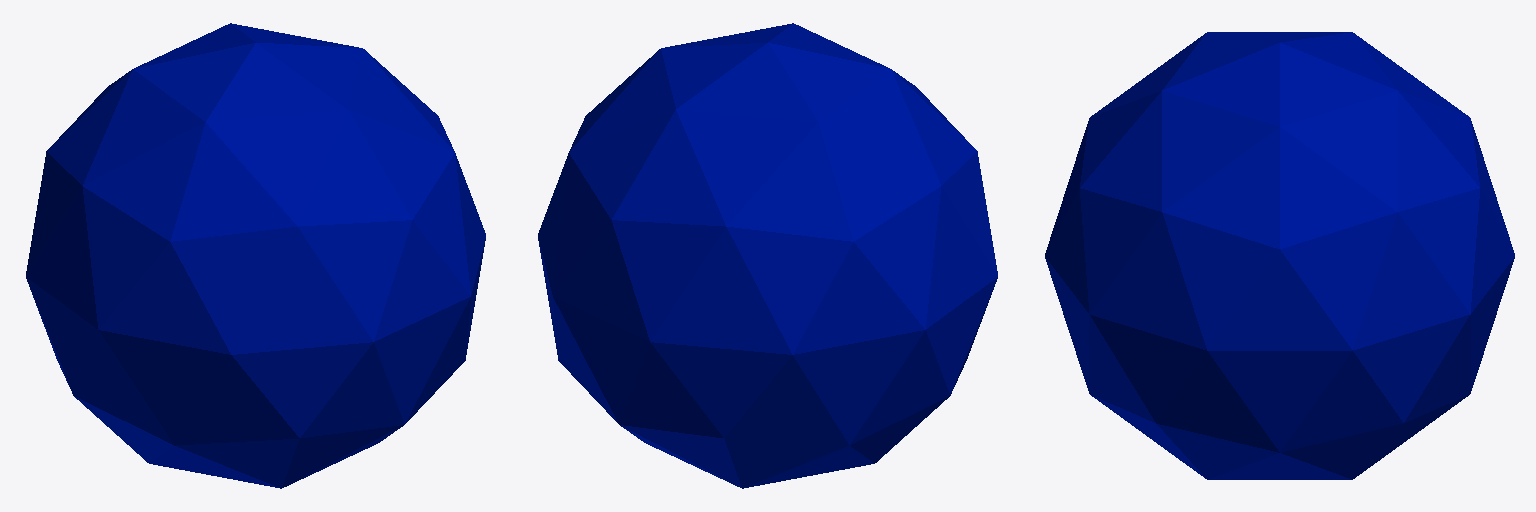
The model's file is saphir.obj.
3 views of the same model, side by side, from view 1: azimuth 30°, elevation 25°; view 2: azimuth 150°, elevation 25°; view 3: azimuth 270°, elevation 25° (orthographic).
Parts seen in each view (by area): view 1: Icosphere_Icosphere.002; view 2: Icosphere_Icosphere.002; view 3: Icosphere_Icosphere.002.
Part boxes in pixels (left/top/right/bottom): Icosphere_Icosphere.002: left=26, top=23, right=485, bottom=488; Icosphere_Icosphere.002: left=538, top=23, right=997, bottom=488; Icosphere_Icosphere.002: left=1045, top=32, right=1514, bottom=479.
Bounding box in the file's own units: 1.9 × 2 × 2.